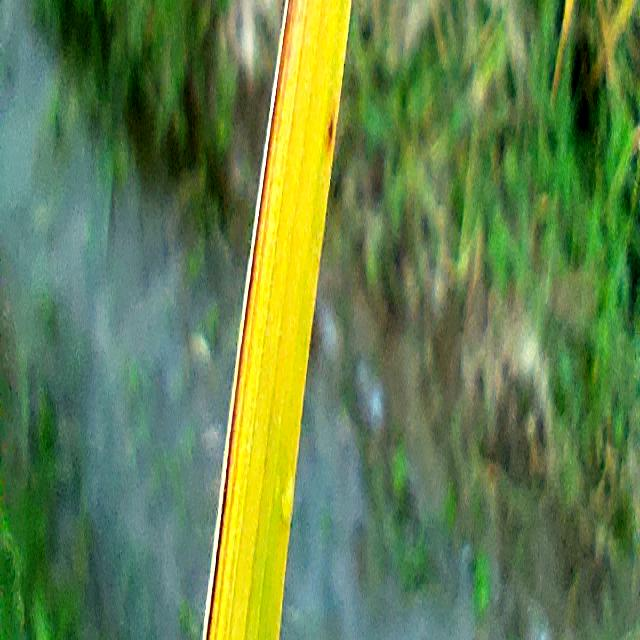BLB: (203, 0, 300, 640)
